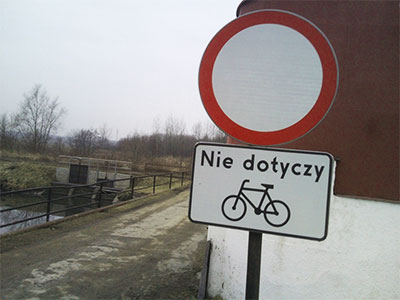no_entry_sign: (198, 8, 339, 147)
